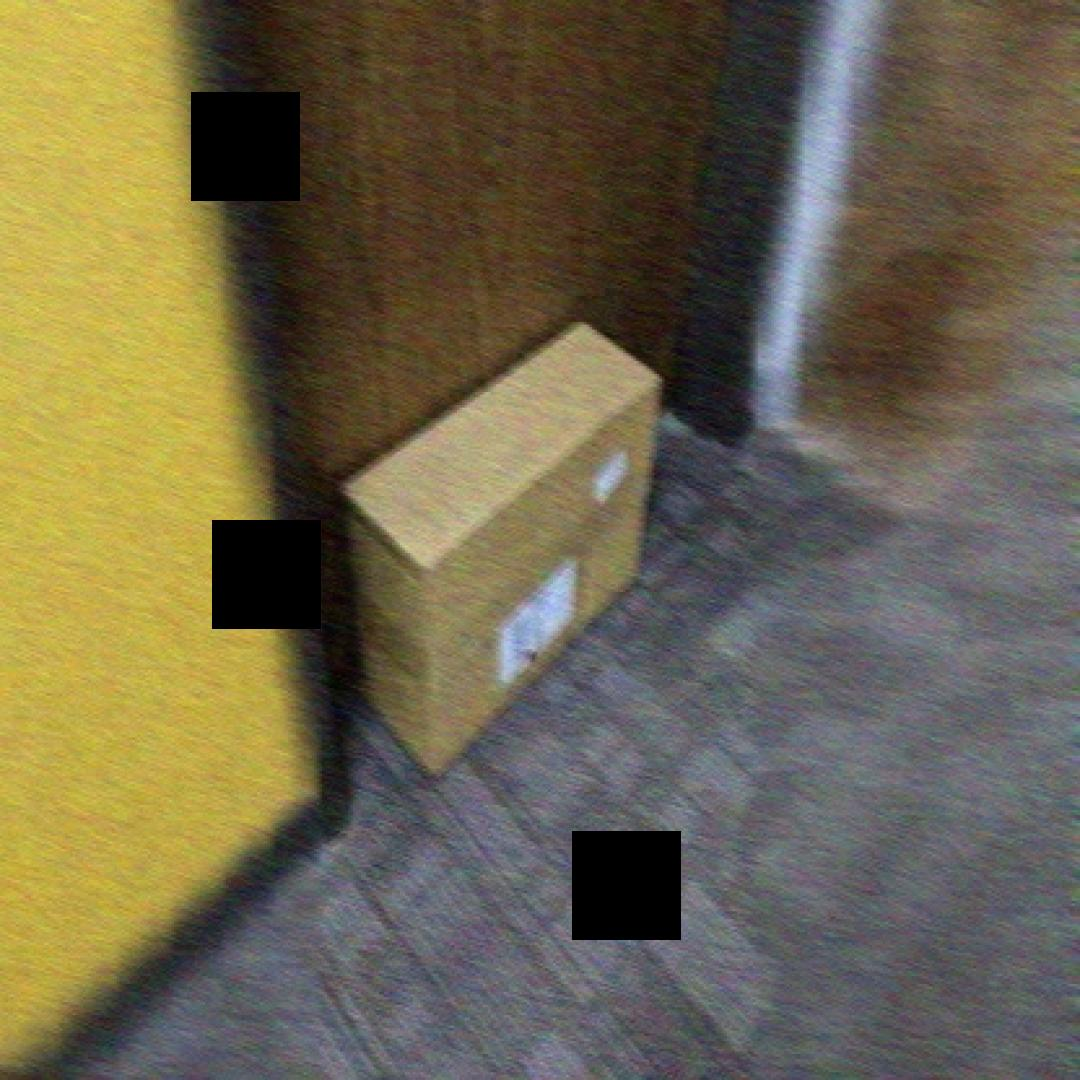package: (340, 309, 670, 787)
